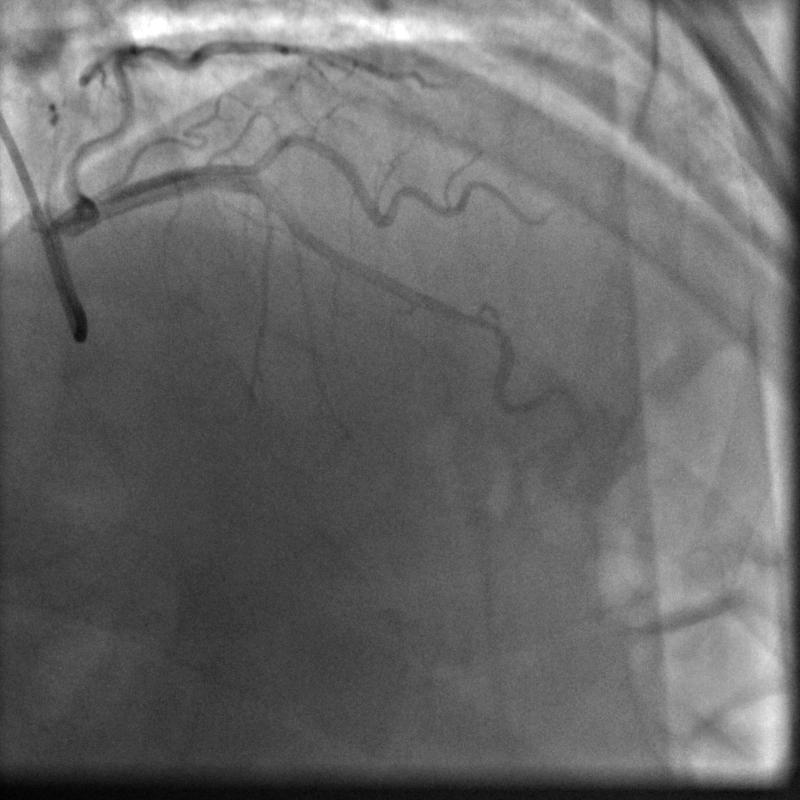Stenosis: (450, 297, 507, 342)
